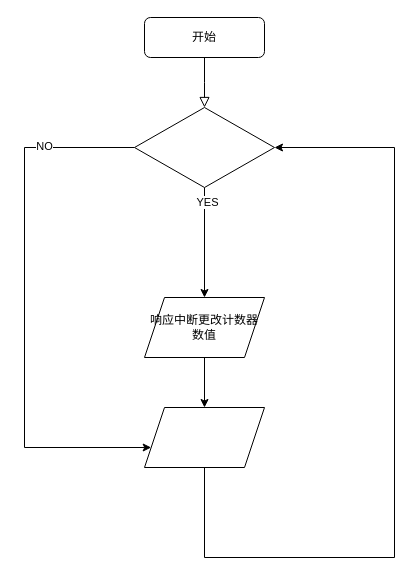
This 420x583 diagram has some shape labels left out. Each missing label, with the centre of its shape:
根据计数器数值在数码管上扫描显示: the point at 204,437
计时结束: the point at 204,147
